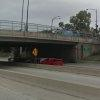Bridge: (3, 9, 95, 60)
